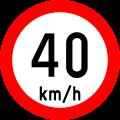Speed limit -40-: (26, 25, 95, 82)
